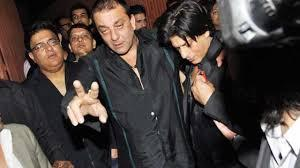Drunk: (93, 13, 134, 52), (167, 31, 205, 63), (31, 32, 64, 67)
